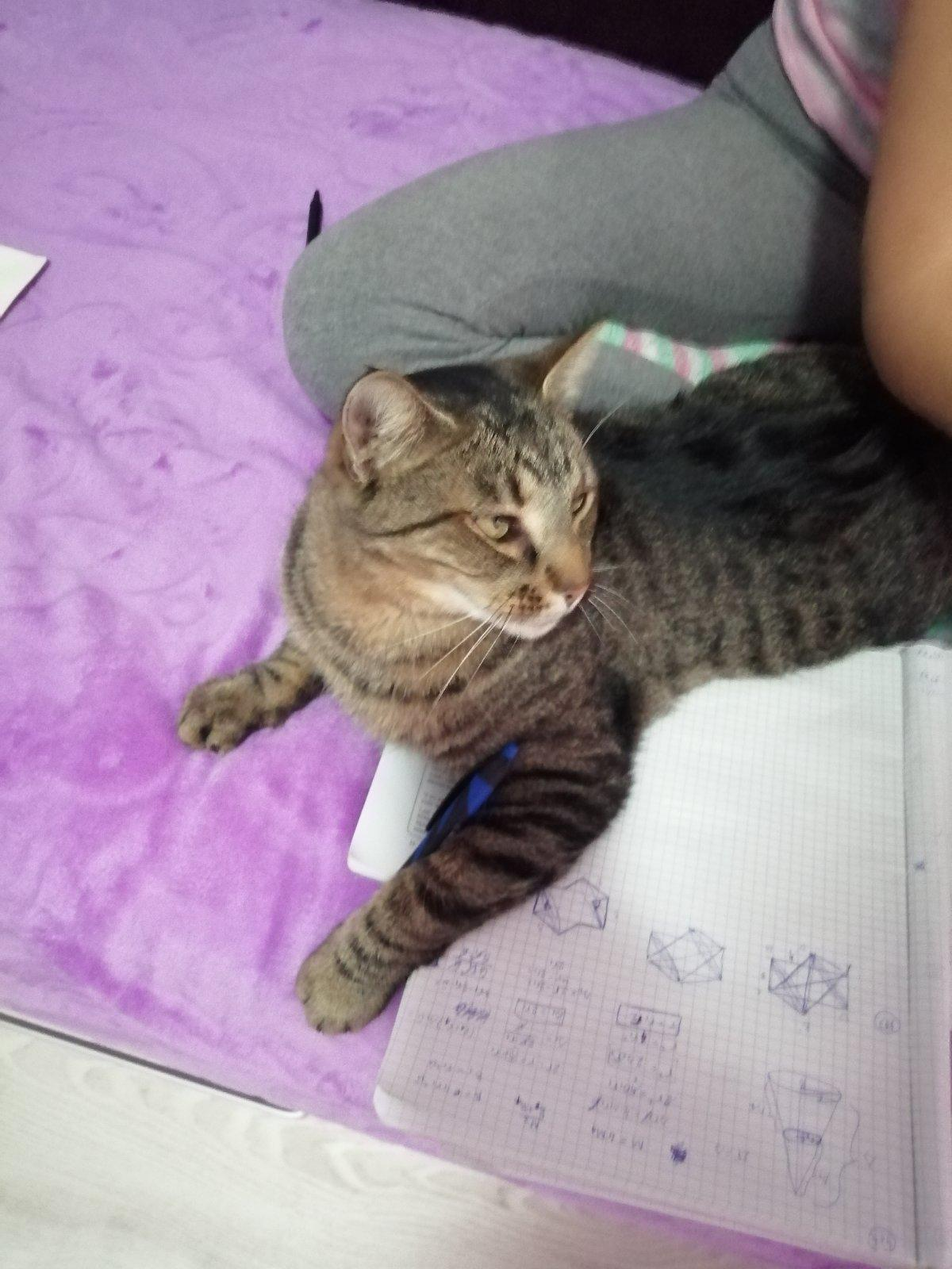macka: (172, 318, 951, 1034)
